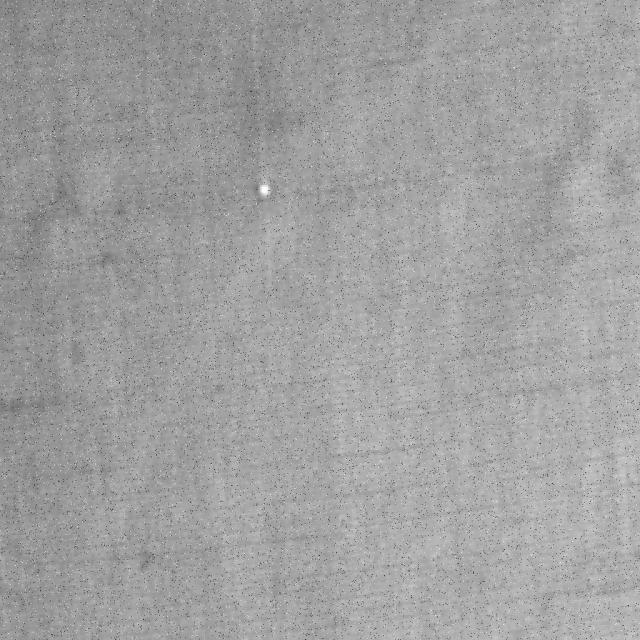other: (231, 118, 305, 260)
